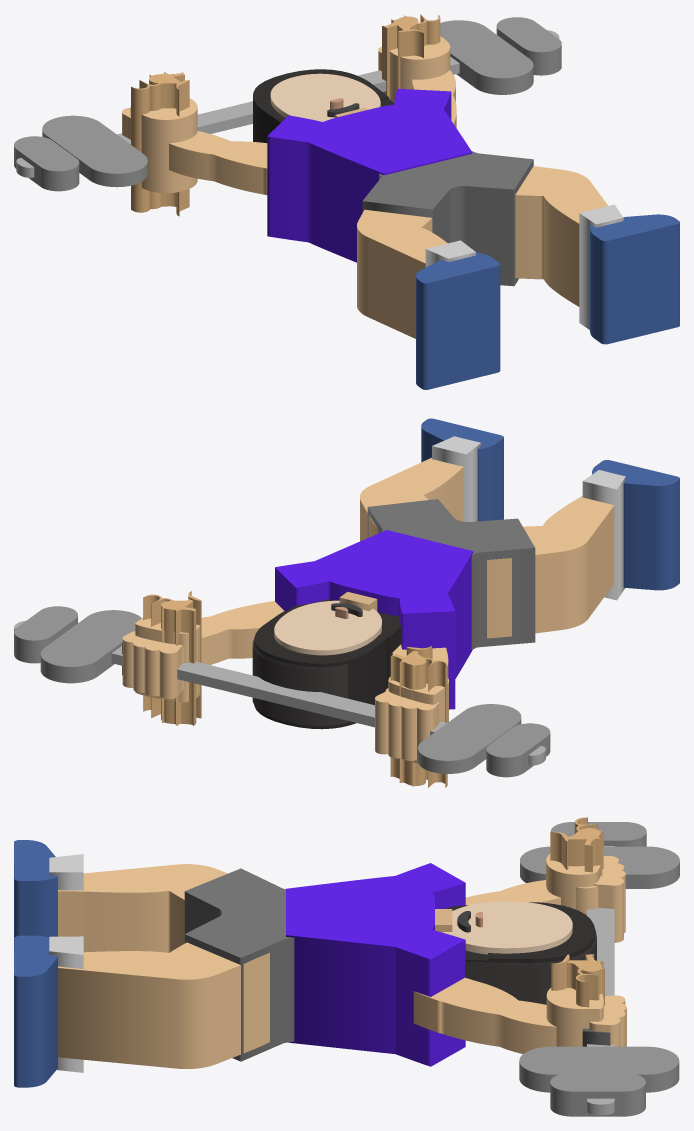
The model's file is emoji_u1f3cb_1f3fb_200d_2640.glb.
3 views of the same model, one above another, from view 1: azimuth 30°, elevation 25°; view 2: azimuth 150°, elevation 25°; view 3: azimuth 270°, elevation 25° (orthographic). The views are drawn at different scales.
Parts seen in each view (by area): view 1: emoji_u1f3cb_1f3fb_200d_2640; view 2: emoji_u1f3cb_1f3fb_200d_2640; view 3: emoji_u1f3cb_1f3fb_200d_2640.
Boxes of the visible parts, x1,y1,x2,y2 form: emoji_u1f3cb_1f3fb_200d_2640: (14, 14, 679, 389); emoji_u1f3cb_1f3fb_200d_2640: (14, 418, 679, 787); emoji_u1f3cb_1f3fb_200d_2640: (14, 817, 679, 1116).
Size of the model in its own units: 0.0338 by 0.0076 by 0.0338.
